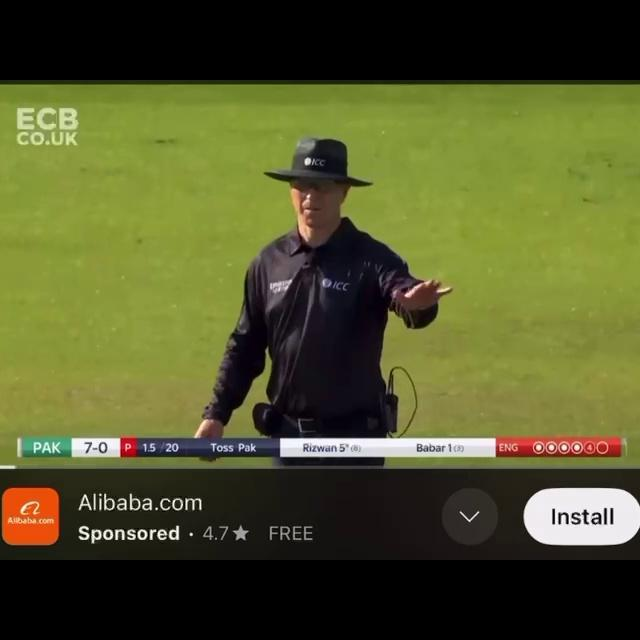umpire: (130, 112, 542, 442)
